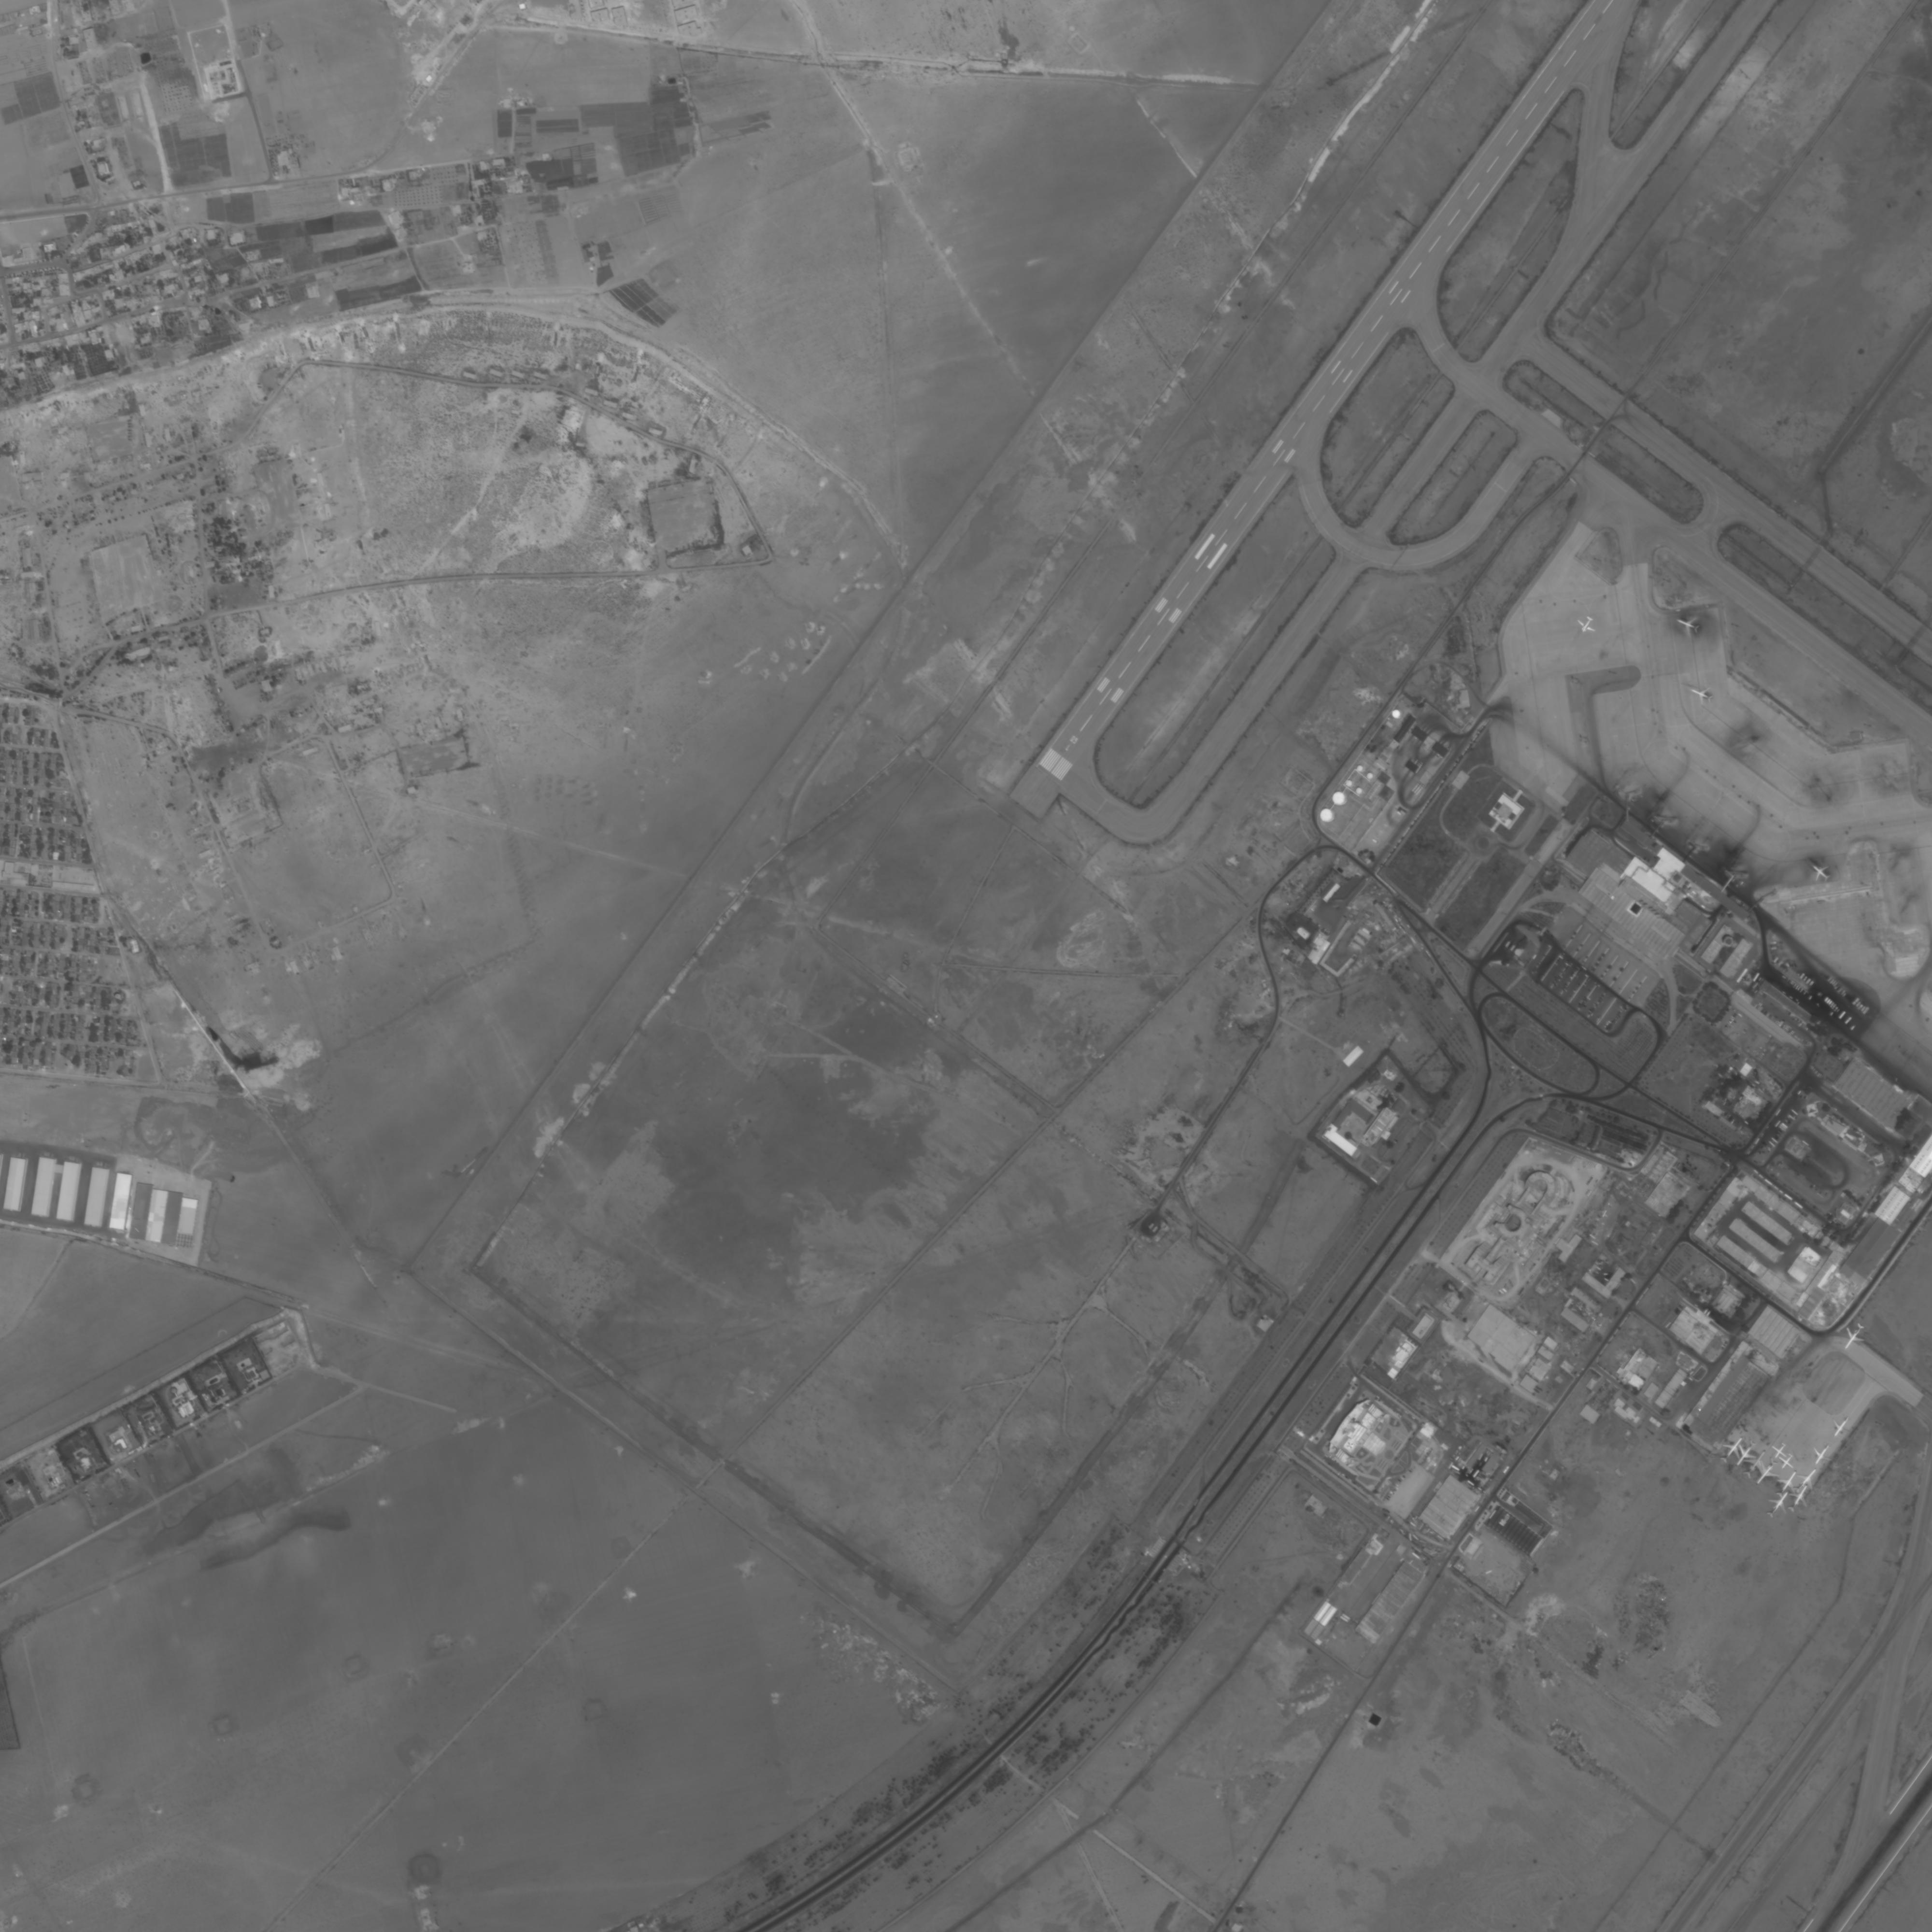plane: (1757, 1484, 1794, 1523), (1748, 1453, 1783, 1491), (1789, 1463, 1826, 1499), (1836, 1318, 1872, 1355), (1737, 1445, 1773, 1483), (1778, 1479, 1815, 1513), (1716, 1431, 1750, 1468), (1805, 1438, 1838, 1472), (1771, 1463, 1803, 1499), (1730, 1437, 1762, 1472), (1826, 1412, 1858, 1442), (1672, 610, 1704, 640), (1684, 679, 1718, 706), (1573, 610, 1601, 639), (1806, 858, 1835, 886), (1766, 1438, 1792, 1463), (1775, 1451, 1799, 1474)
